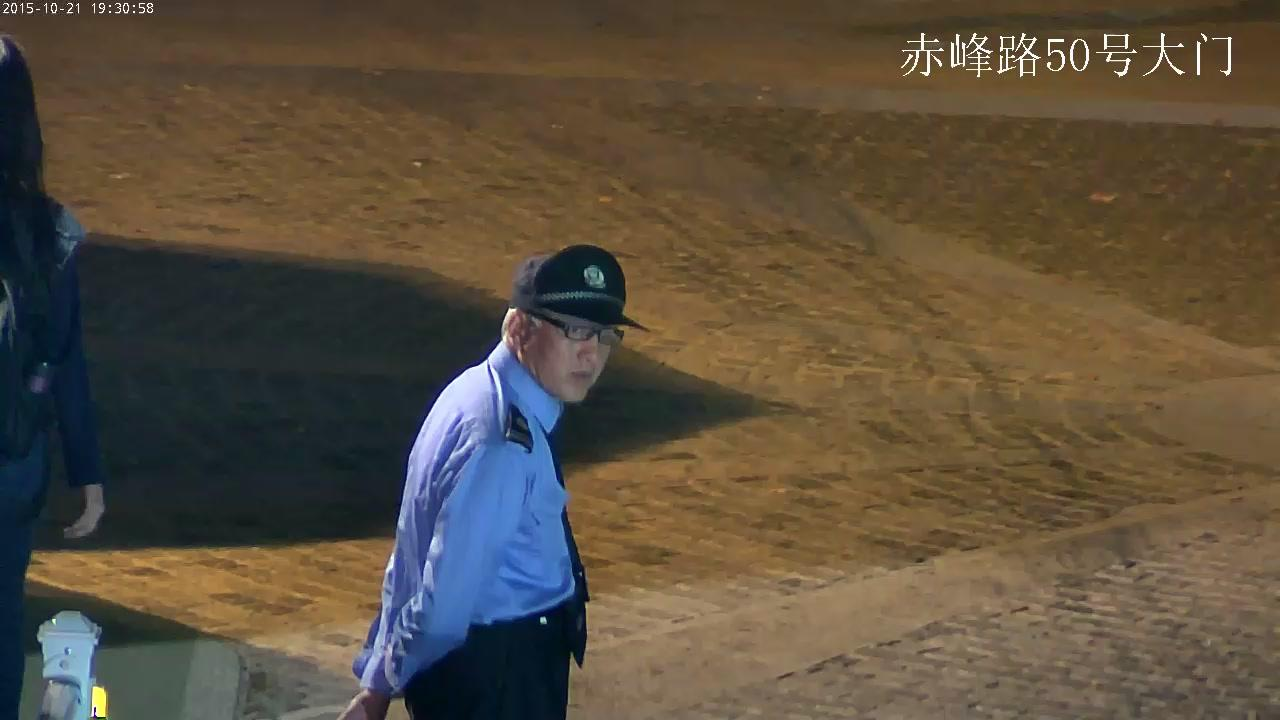face: (531, 309, 614, 401)
